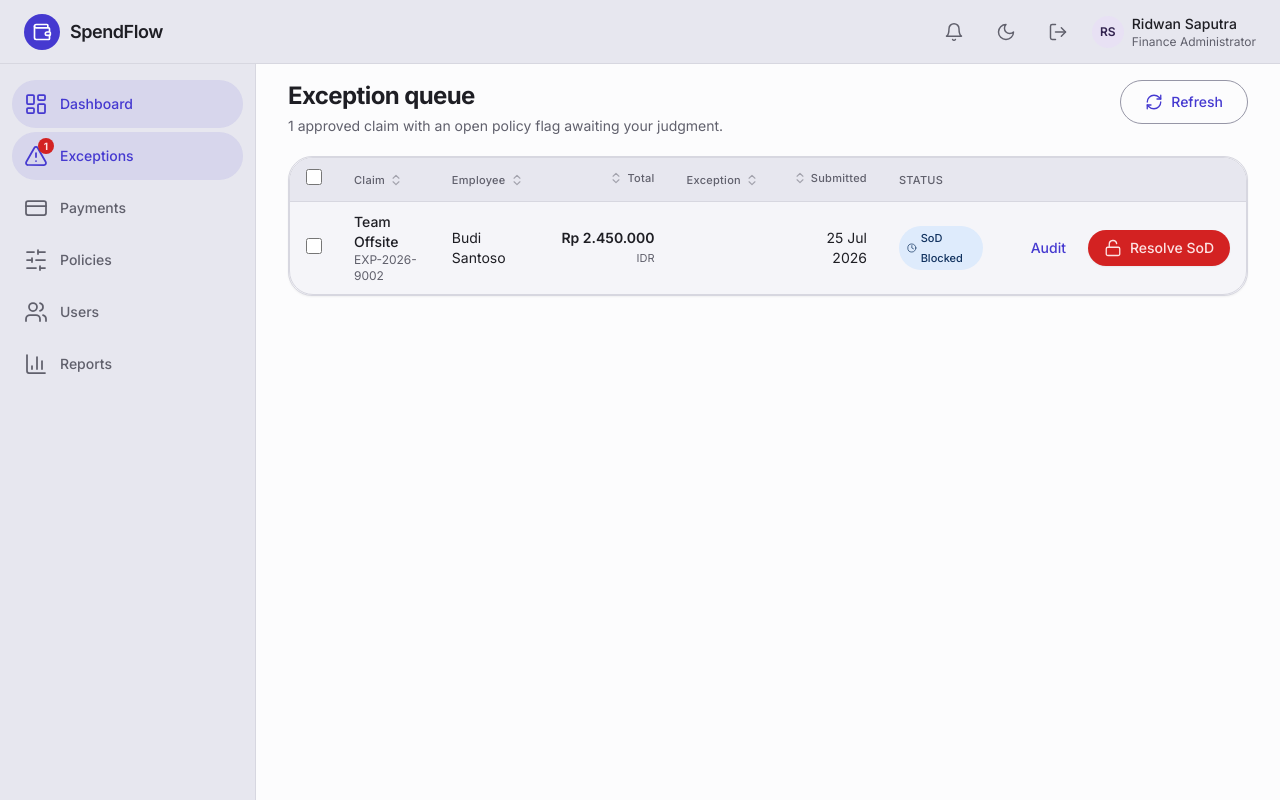
Scenario: Exception queue — Resolve SoD action › opens the dialog with the block copy: title, submitter name, blocked_reason
The width and height of the screenshot is (1280, 800).
Expected: the text "Team Offsite" is shown, x1=354 y1=213 x2=398 y2=250
Click the button "Resolve SoD".
click(1159, 248)  # box x1=1088 y1=230 x2=1230 y2=266
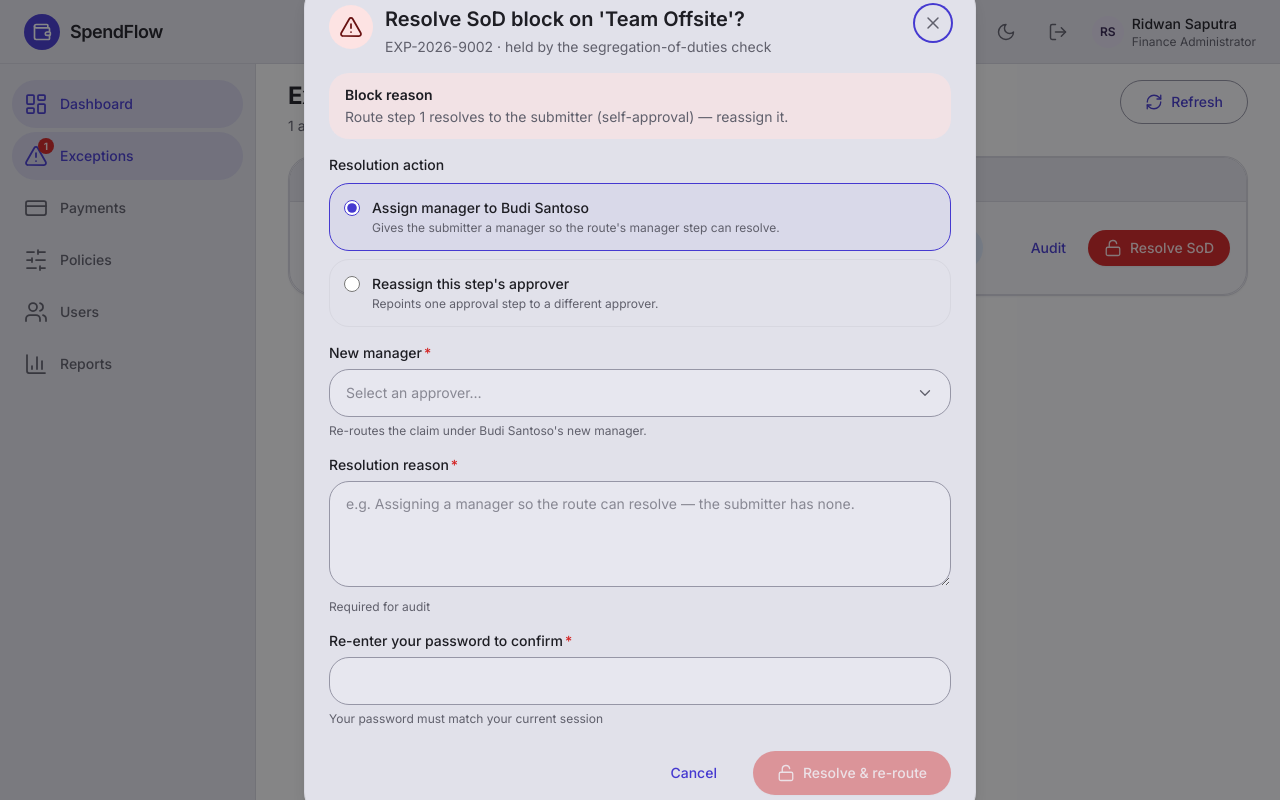
Now the heading "Resolve SoD block on 'Team Offsite'?" is shown, box x1=385 y1=7 x2=745 y2=31
Now the radio button labelled "Assign manager to Budi Santoso" is shown, box x1=344 y1=200 x2=360 y2=216
Now the text "self-approval" is shown, box x1=345 y1=108 x2=788 y2=125
